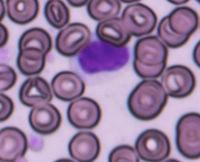L: (69, 38, 132, 84)
